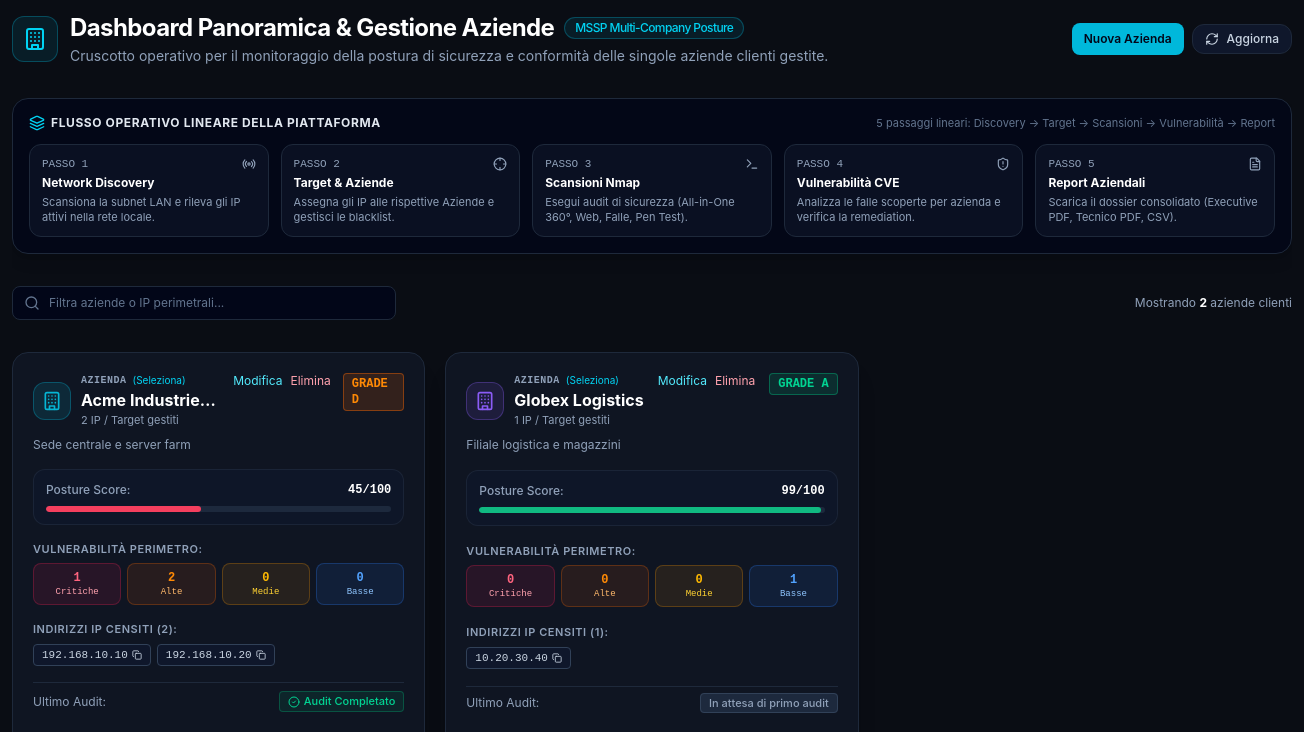
it: Dashboard Page - Per-Company Posture Overview & Workflow Stepper › filters companies by search query
This screenshot has width=1304, height=732.
Expected: the heading "Acme Industries Corp" is shown, left=81, top=388, right=221, bottom=412
Expected: the heading "Globex Logistics" is shown, left=514, top=388, right=644, bottom=412
// Inserisci "Globex" nel campo di ricerca
Type "Globex" into the field with placeholder "Filtra aziende o IP perimetrali..." at (204, 304), box left=12, top=286, right=396, bottom=320
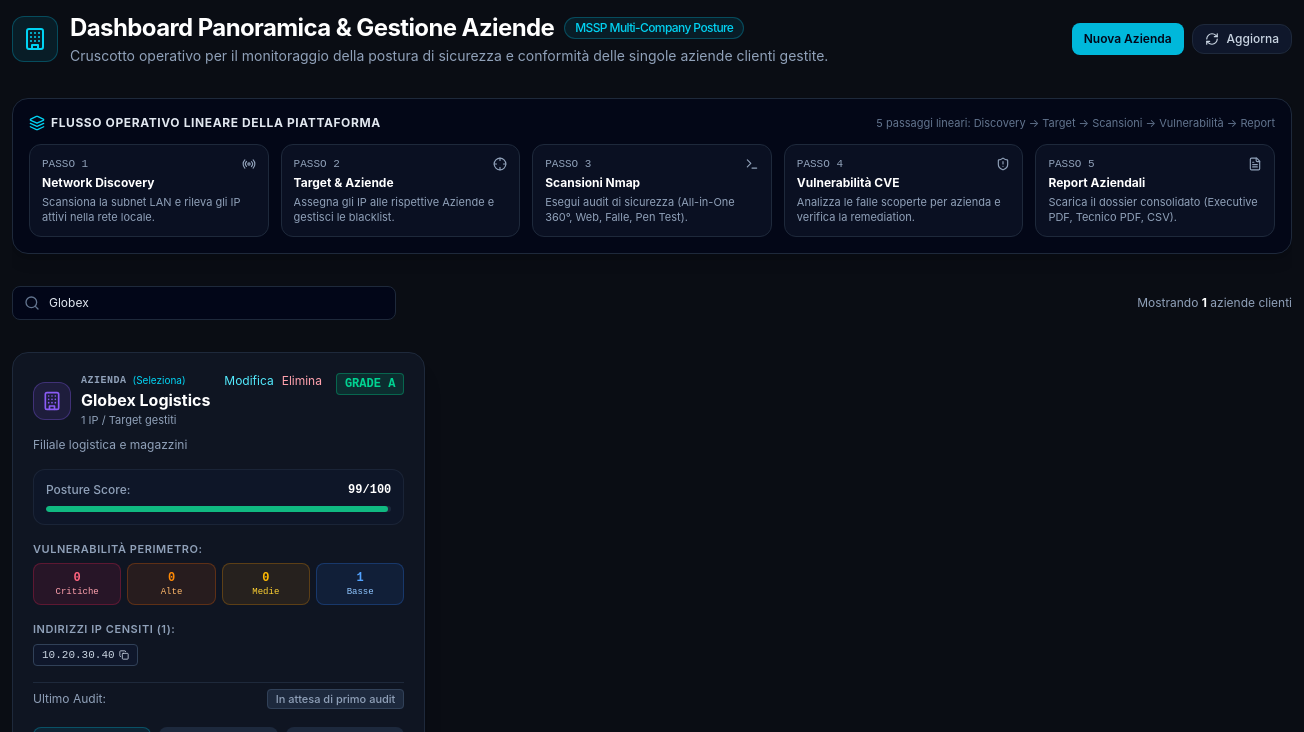
Expected: the heading "Globex Logistics" is shown, left=81, top=388, right=210, bottom=412
Result: the heading "Acme Industries Corp" is gone
